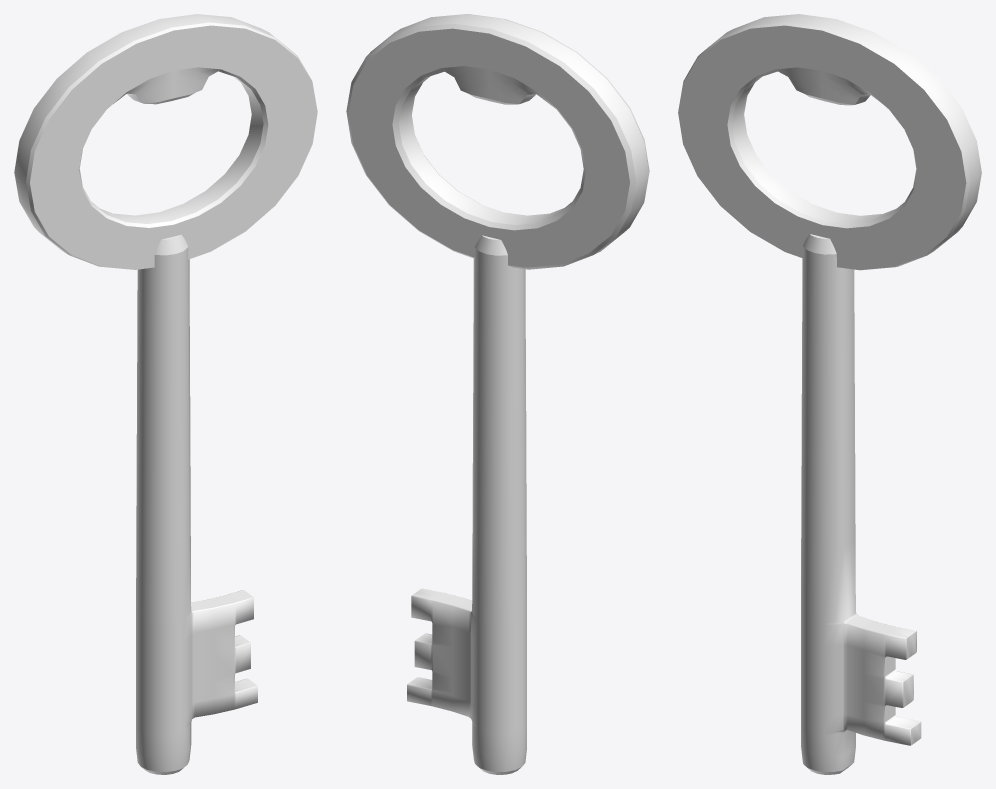
Rendered from key.obj.
3 views of the same model, side by side, from view 1: azimuth 30°, elevation 25°; view 2: azimuth 150°, elevation 25°; view 3: azimuth 330°, elevation 25° (orthographic).
Parts seen in each view (by area): view 1: key:Key_01; view 2: key:Key_01; view 3: key:Key_01.
Boxes of the visible parts, <box> form: key:Key_01: <box>14,14,317,774</box>; key:Key_01: <box>346,14,649,774</box>; key:Key_01: <box>678,14,981,774</box>.
Bounding box in the file's own units: 0.7039 × 1.71 × 0.1139.
1 material, 1 textured.
